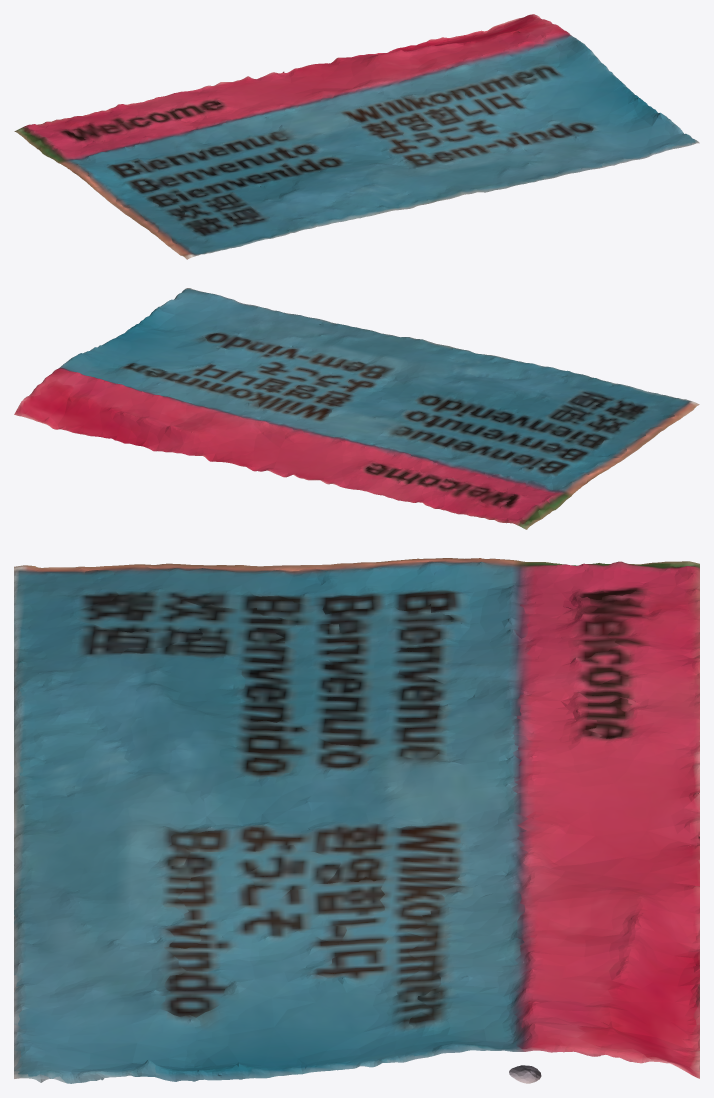
The model's file is moma-ticket-front.glb.
The picture shows the model from 3 angles, top to bottom: view 1: azimuth 30°, elevation 25°; view 2: azimuth 150°, elevation 25°; view 3: azimuth 270°, elevation 25°; orthographic projection. The views are drawn at different scales.
Visible parts, largest first — view 1: mesh; view 2: mesh; view 3: mesh.
Part boxes in pixels (x1=…): mesh: x1=14, y1=14, x2=699, y2=259; mesh: x1=14, y1=288, x2=699, y2=529; mesh: x1=14, y1=558, x2=699, y2=1083.
Bounding box in the file's own units: 0.1411 × 0.00586 × 0.0825.
1 material, 1 textured.
